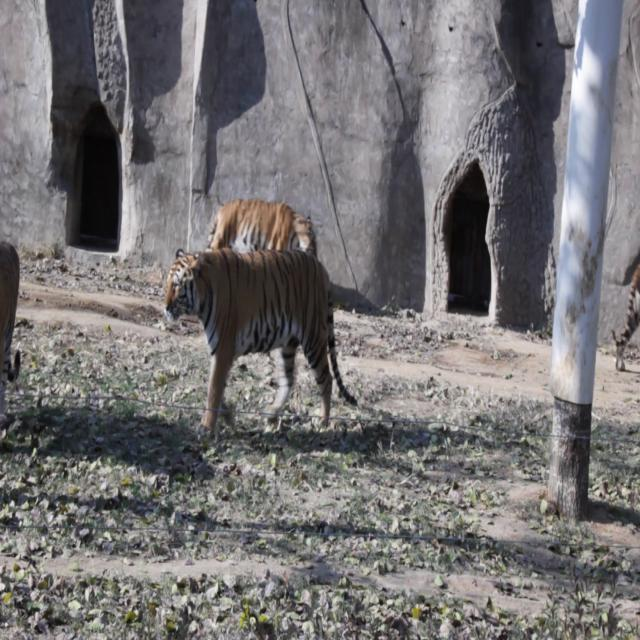Tiger: (154, 238, 350, 442), (204, 187, 322, 266)
